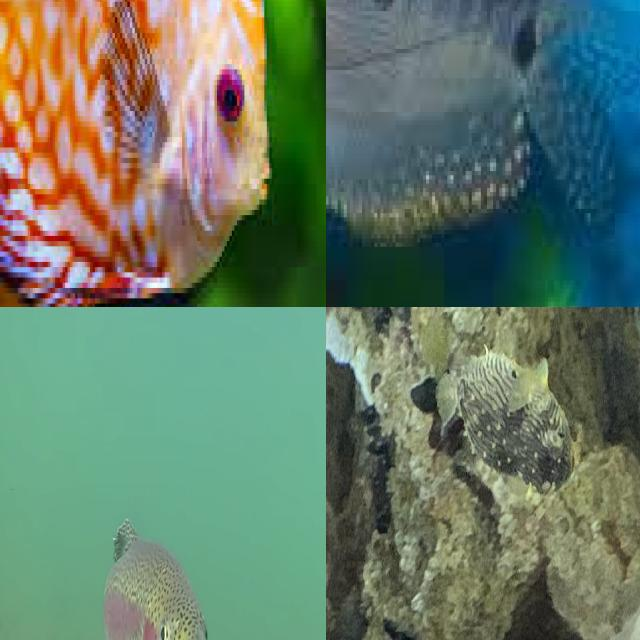fish: (0, 0, 326, 307), (326, 0, 539, 251), (410, 342, 582, 497)
